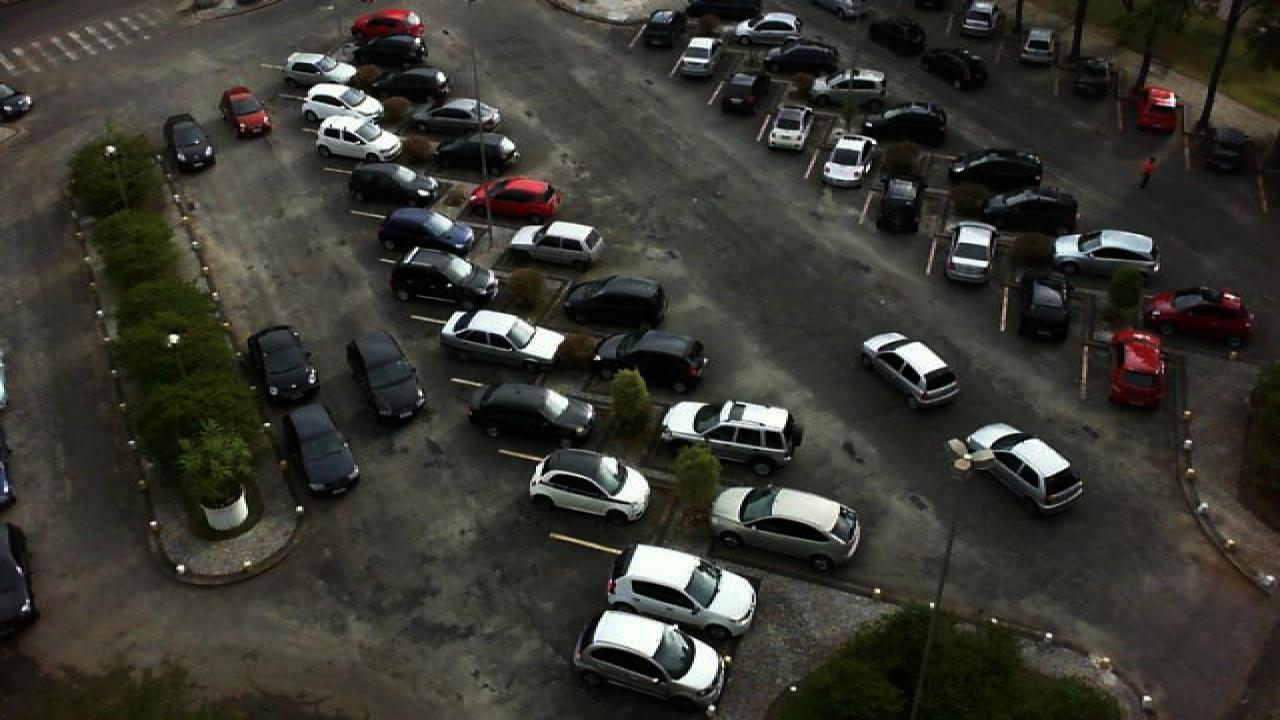Car: (570, 606, 726, 712), (606, 542, 760, 642), (708, 485, 866, 571), (660, 396, 804, 476), (964, 422, 1086, 513), (526, 448, 654, 524), (466, 380, 598, 450), (858, 331, 962, 413), (588, 328, 708, 396), (346, 330, 430, 425), (438, 310, 568, 371), (280, 402, 360, 497), (388, 246, 500, 308), (1142, 287, 1258, 345), (244, 324, 320, 408), (562, 274, 670, 330), (1052, 228, 1162, 280), (376, 206, 478, 258), (976, 187, 1080, 234), (1108, 327, 1168, 408), (506, 219, 604, 268), (468, 175, 564, 224), (314, 114, 406, 164), (948, 148, 1048, 194), (348, 161, 442, 207), (856, 100, 950, 145), (1018, 270, 1072, 341), (298, 82, 384, 126), (942, 222, 998, 286), (434, 134, 520, 174), (160, 112, 216, 173), (410, 97, 502, 134), (370, 65, 450, 105), (1200, 124, 1258, 176), (922, 45, 988, 90), (282, 52, 360, 89), (810, 68, 888, 105), (874, 176, 922, 235), (220, 86, 272, 140), (822, 135, 872, 190), (350, 34, 428, 68), (866, 17, 928, 58), (1132, 83, 1182, 133), (764, 41, 842, 73), (348, 7, 426, 38), (764, 102, 812, 152), (734, 11, 804, 44), (720, 68, 764, 114), (678, 36, 722, 79), (1072, 55, 1114, 100), (636, 9, 680, 49), (682, 0, 762, 22), (1020, 26, 1058, 67), (960, 0, 998, 37)
